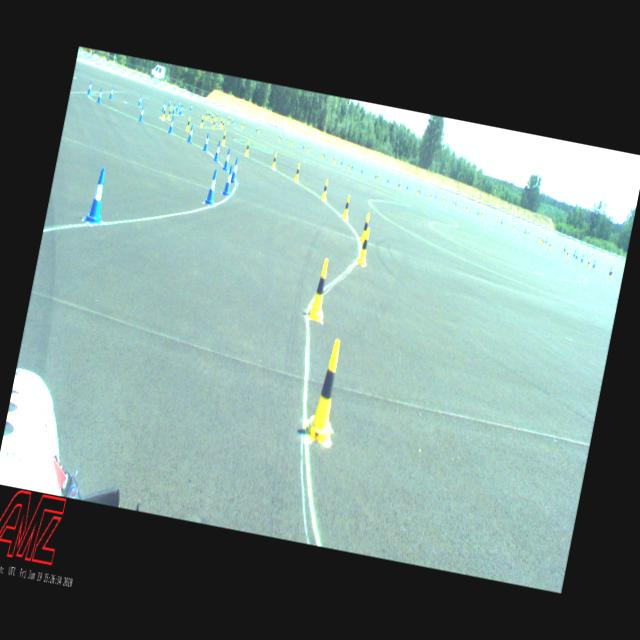blue_cone: (86, 167, 110, 224), (205, 168, 220, 204), (222, 165, 235, 196), (230, 158, 240, 182), (222, 148, 232, 171), (202, 132, 212, 152), (213, 141, 222, 163), (187, 125, 195, 144), (138, 105, 146, 124), (168, 116, 176, 134), (96, 88, 104, 104), (86, 81, 94, 96), (109, 86, 115, 100), (137, 95, 143, 106), (162, 101, 167, 112), (172, 104, 177, 115), (180, 104, 184, 116), (179, 105, 183, 115), (580, 254, 584, 263), (168, 99, 172, 107), (176, 104, 180, 112), (609, 266, 612, 276), (361, 166, 364, 174), (593, 260, 596, 268), (341, 158, 344, 166), (178, 101, 181, 109), (374, 172, 378, 178), (573, 250, 576, 258), (563, 245, 566, 252), (190, 104, 193, 110), (576, 252, 578, 260), (352, 162, 354, 169), (256, 126, 258, 132)
yellow_cone: (303, 337, 350, 445), (308, 257, 334, 321), (357, 226, 373, 266), (360, 212, 370, 242), (342, 195, 352, 219), (320, 178, 330, 200), (294, 162, 302, 182), (244, 140, 252, 156), (271, 152, 278, 168), (185, 116, 192, 132), (221, 130, 228, 146), (167, 106, 172, 120), (162, 106, 166, 120), (586, 258, 591, 268), (376, 172, 381, 182), (200, 116, 204, 128), (609, 270, 614, 279), (212, 119, 216, 130), (332, 156, 337, 164), (221, 120, 225, 130), (566, 250, 570, 259), (241, 121, 245, 130), (205, 111, 209, 120), (210, 114, 214, 122), (548, 242, 552, 250), (398, 182, 402, 190), (542, 238, 546, 246), (290, 139, 294, 146), (537, 235, 541, 242), (512, 224, 516, 231), (228, 116, 231, 125), (216, 112, 219, 121), (307, 144, 310, 152), (481, 210, 484, 218), (220, 118, 223, 126), (496, 217, 499, 224), (465, 205, 468, 212), (416, 188, 419, 195), (527, 230, 530, 237), (208, 111, 210, 119), (322, 151, 324, 159), (442, 196, 444, 204), (258, 126, 260, 134)
